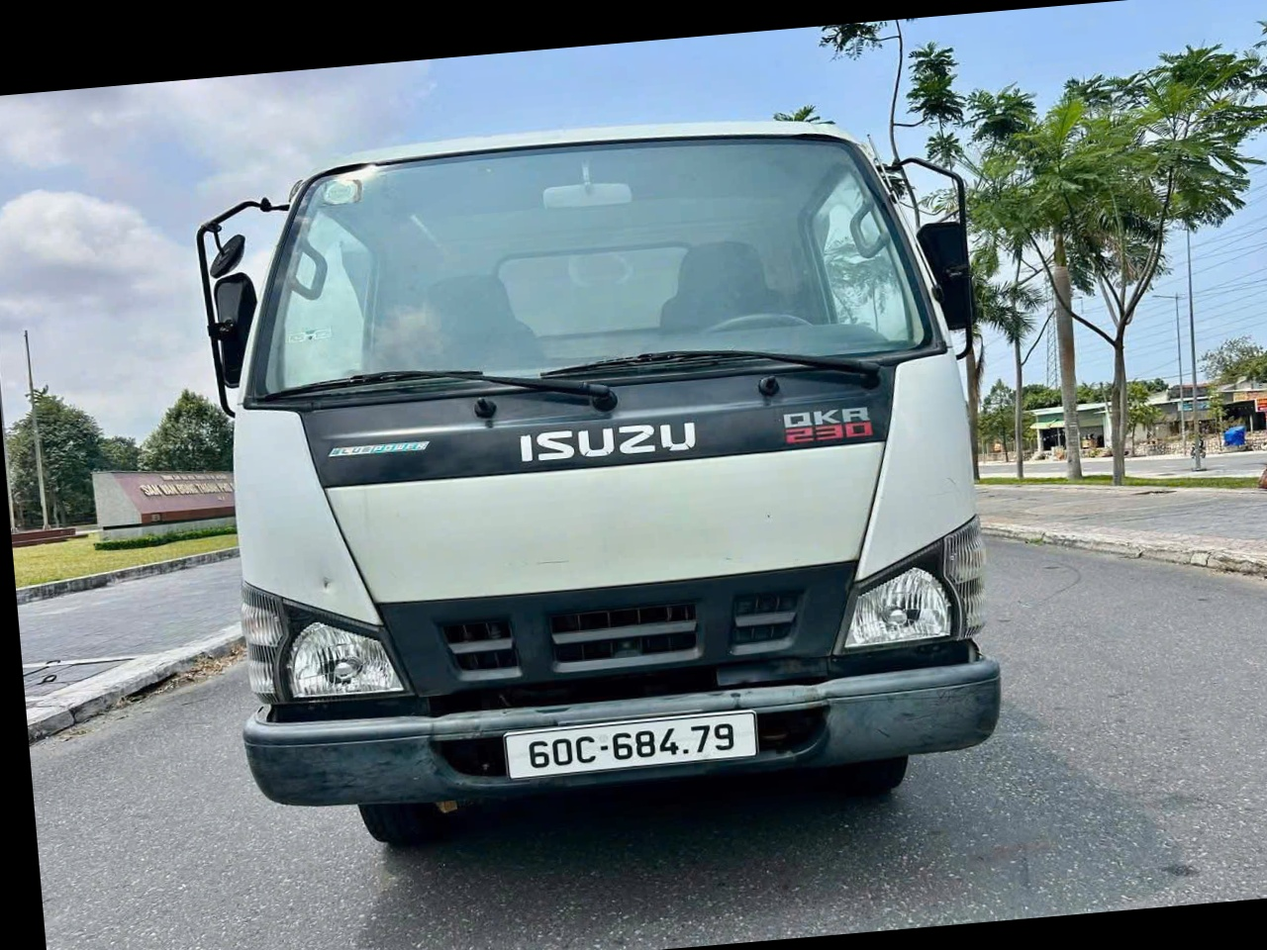Bien-so: (476, 718, 730, 797)
